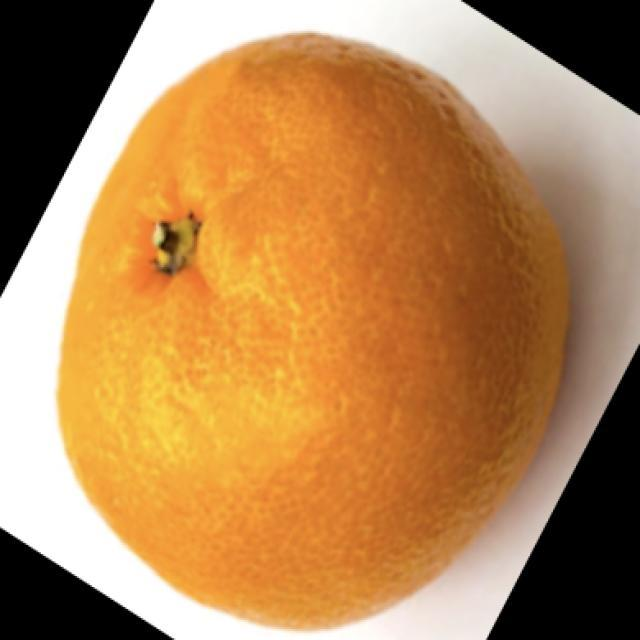matang: (60, 34, 566, 627)
